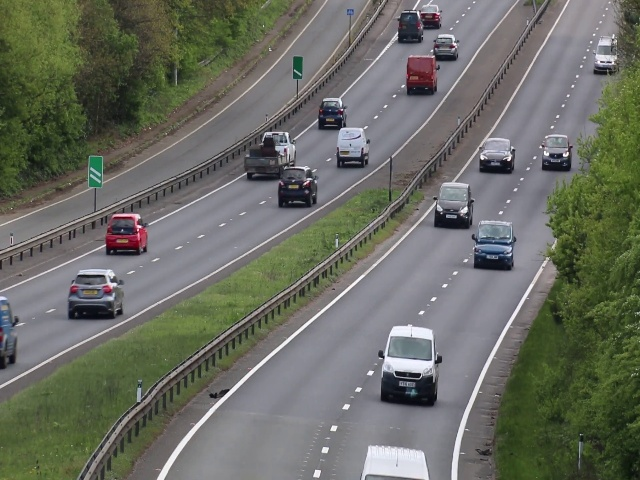car: (377, 326, 440, 408), (64, 268, 127, 322), (244, 129, 298, 181), (104, 211, 151, 257), (431, 181, 476, 227), (277, 163, 317, 208), (475, 219, 513, 266), (476, 134, 518, 174), (333, 126, 373, 168), (405, 52, 440, 97), (538, 132, 573, 174), (317, 96, 347, 132), (592, 35, 617, 77), (397, 11, 424, 44), (433, 34, 460, 60), (423, 5, 442, 27)
